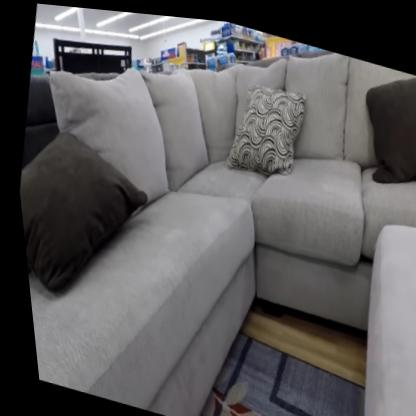Sofa: (118, 9, 416, 335)
